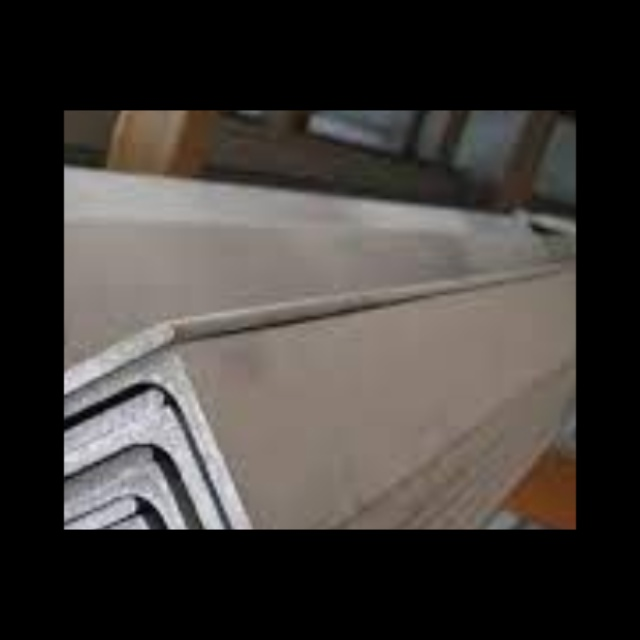Angle: (64, 368, 262, 530), (64, 424, 263, 530), (64, 237, 168, 420), (64, 477, 246, 530), (64, 424, 140, 523), (64, 449, 123, 530), (64, 454, 103, 530)
